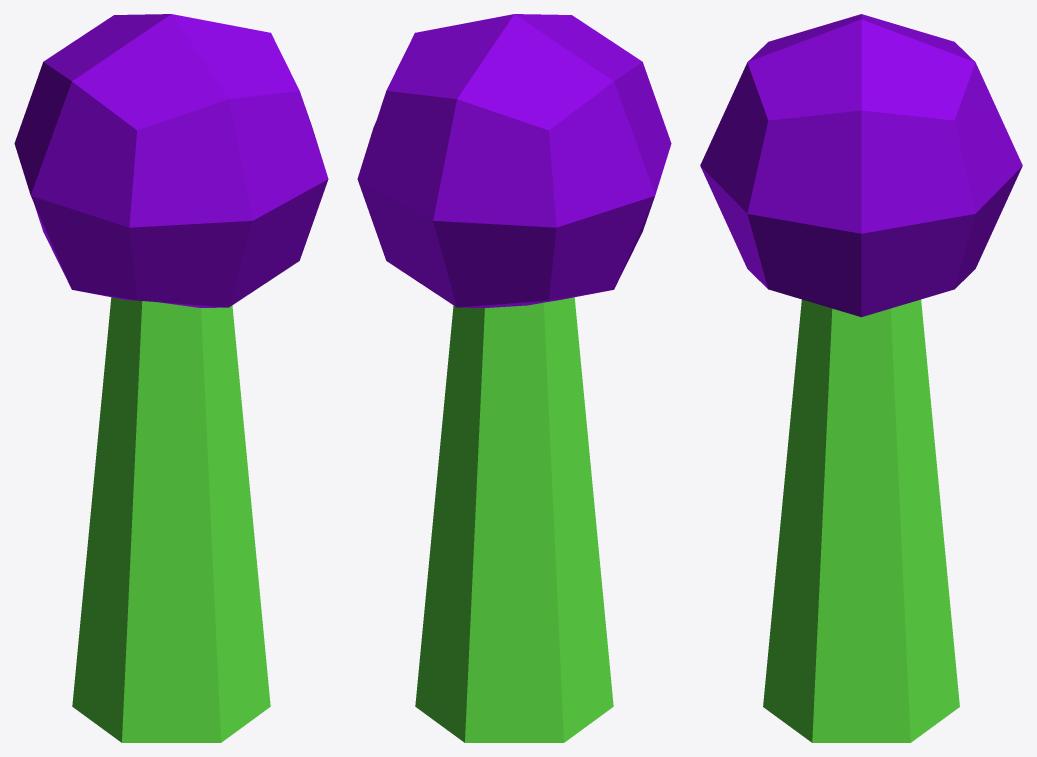
The model's file is Flower.fbx.
3 renders of one model, left to right at view 1: azimuth 30°, elevation 25°; view 2: azimuth 150°, elevation 25°; view 3: azimuth 270°, elevation 25°, orthographic.
Visible parts, largest first — view 1: Cube.016, Cylinder; view 2: Cube.016, Cylinder; view 3: Cube.016, Cylinder.
Boxes of the visible parts, left/top/right/bottom form: Cube.016: left=14, top=14, right=328, bottom=307; Cylinder: left=72, top=297, right=270, bottom=742; Cube.016: left=357, top=14, right=671, bottom=307; Cylinder: left=415, top=297, right=613, bottom=742; Cube.016: left=700, top=14, right=1022, bottom=317; Cylinder: left=763, top=299, right=959, bottom=742.
Bounding box in the file's own units: 2.36 × 5.54 × 2.36.
